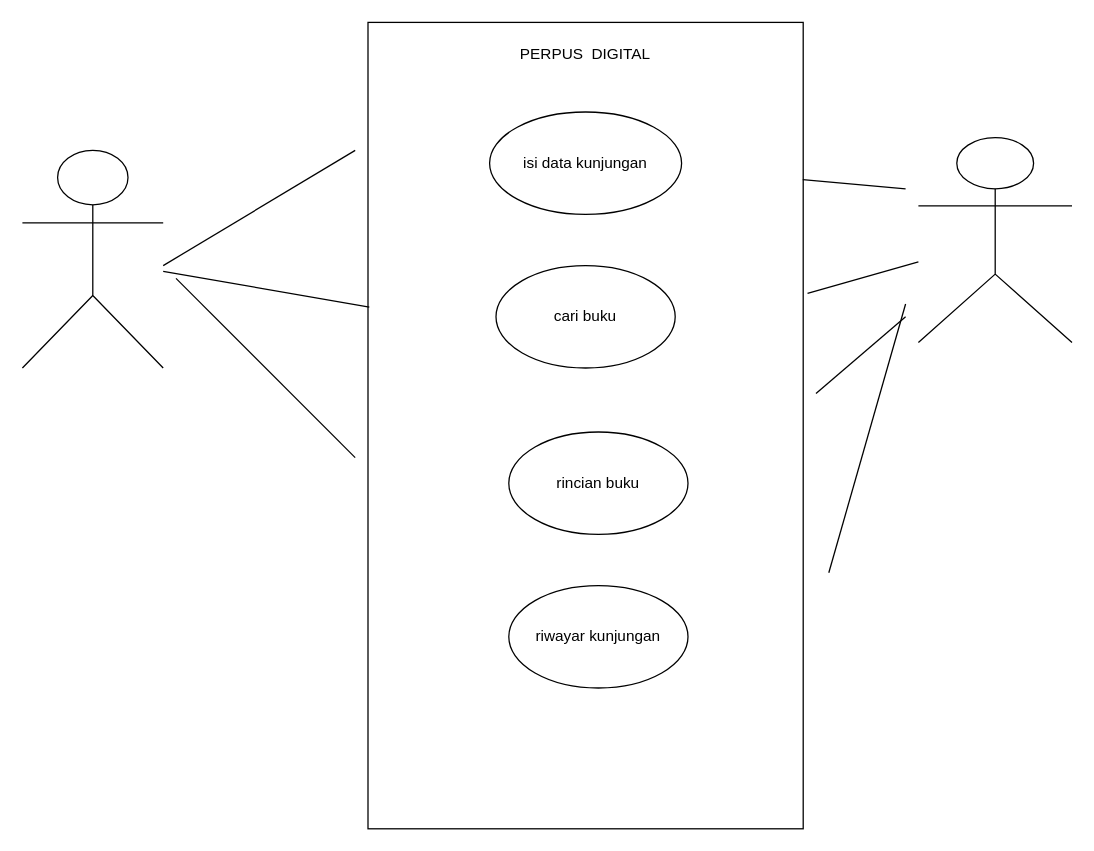
The diagram is 1094 pixels wide and 851 high, and some of its shapes have lost their labels. Each missing label, with the box of its shape:
pengunjung: (21, 149, 163, 368)
pustakawan: (917, 136, 1072, 342)
